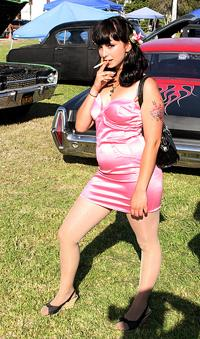person: (41, 16, 165, 332)
